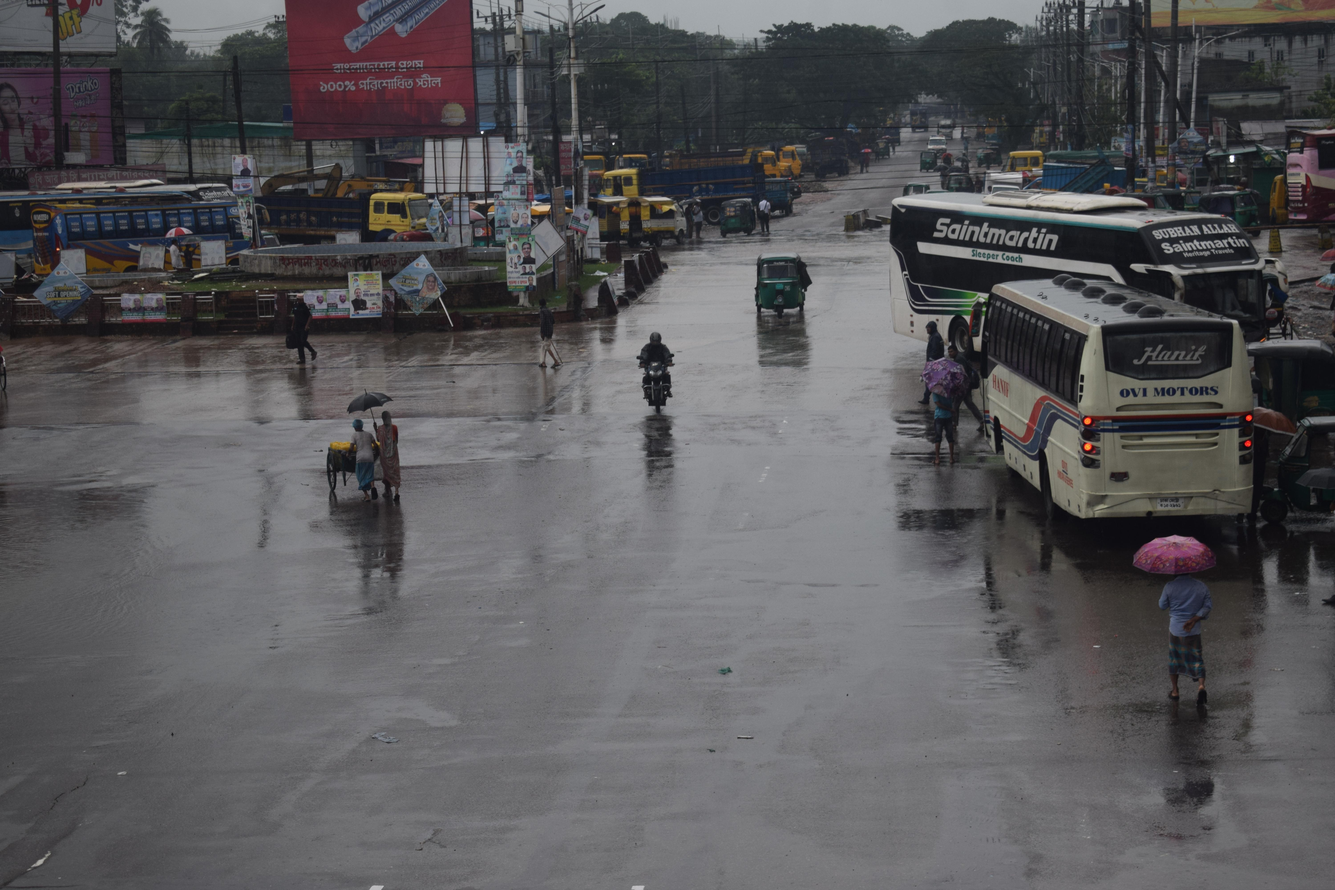Bike: (608, 302, 690, 428)
Bus: (949, 266, 1270, 580), (862, 160, 1309, 360), (8, 168, 252, 309)
Car: (593, 186, 718, 260)
Truck: (259, 161, 455, 270), (599, 145, 752, 204)
